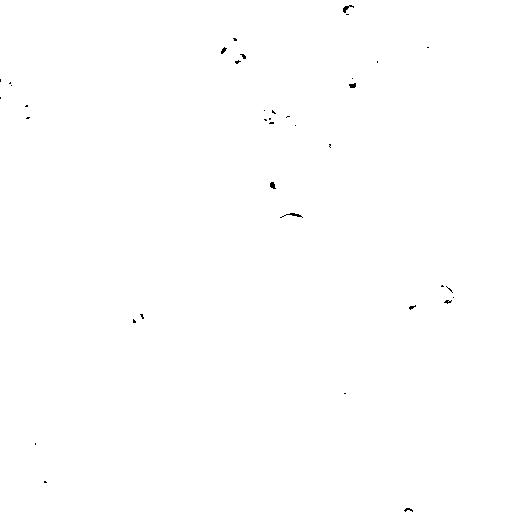micro-algae: (24, 76, 93, 144), (208, 156, 267, 218), (250, 190, 309, 245), (225, 46, 269, 87), (485, 7, 511, 69), (19, 428, 53, 459), (275, 211, 311, 240), (30, 461, 62, 492), (345, 91, 381, 117), (430, 279, 460, 307), (207, 40, 236, 67), (165, 430, 193, 456), (8, 220, 37, 245), (375, 366, 399, 394), (108, 15, 137, 37), (121, 37, 152, 57), (147, 128, 175, 150), (165, 273, 189, 298), (164, 15, 193, 35), (268, 171, 292, 195), (180, 395, 205, 418), (187, 140, 213, 161), (282, 39, 306, 61), (257, 101, 279, 125), (1, 337, 17, 370), (125, 307, 147, 329), (168, 304, 189, 327), (399, 299, 423, 319), (111, 261, 135, 281), (189, 59, 210, 81), (495, 201, 511, 229), (221, 225, 243, 245), (305, 15, 323, 39), (225, 25, 245, 45), (434, 178, 455, 197), (75, 327, 97, 345), (345, 70, 364, 90), (127, 153, 146, 173), (373, 100, 395, 117), (13, 246, 35, 263), (158, 83, 181, 99), (47, 339, 67, 357), (11, 320, 28, 341), (231, 88, 253, 104), (230, 371, 249, 389), (339, 1, 359, 18), (423, 94, 443, 111), (191, 207, 208, 227), (231, 318, 248, 336), (239, 0, 259, 15), (351, 160, 368, 177), (18, 103, 34, 121), (322, 24, 337, 43), (333, 389, 352, 404), (365, 49, 382, 65), (381, 418, 396, 436), (493, 114, 507, 132), (27, 49, 42, 65), (371, 21, 387, 36), (232, 51, 247, 67), (261, 320, 277, 335), (238, 445, 253, 461), (284, 113, 299, 128), (10, 71, 26, 85), (417, 45, 433, 59), (495, 18, 509, 33), (151, 246, 165, 261), (358, 133, 371, 148), (0, 79, 10, 97), (325, 139, 335, 153), (318, 0, 335, 8), (400, 504, 419, 511), (93, 0, 112, 5)
